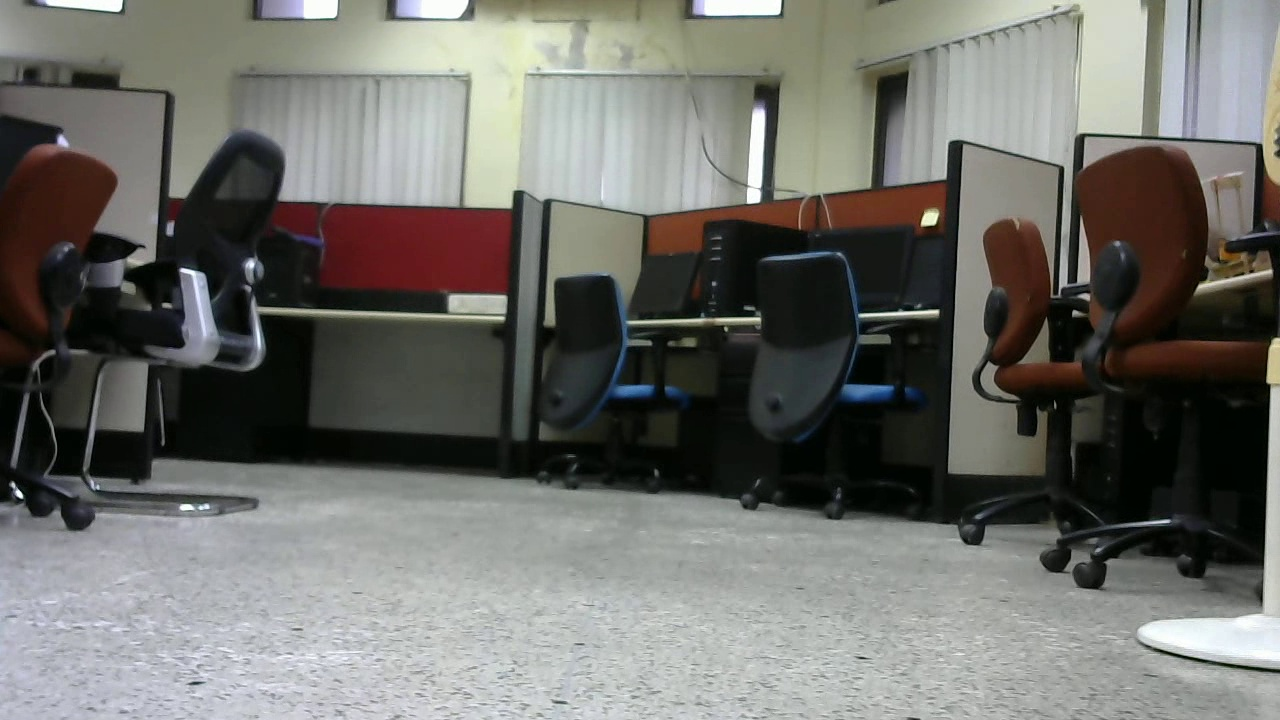chair: (1065, 143, 1280, 591), (117, 126, 293, 512), (958, 217, 1135, 557), (727, 249, 930, 525), (6, 143, 110, 526), (519, 273, 697, 494)
